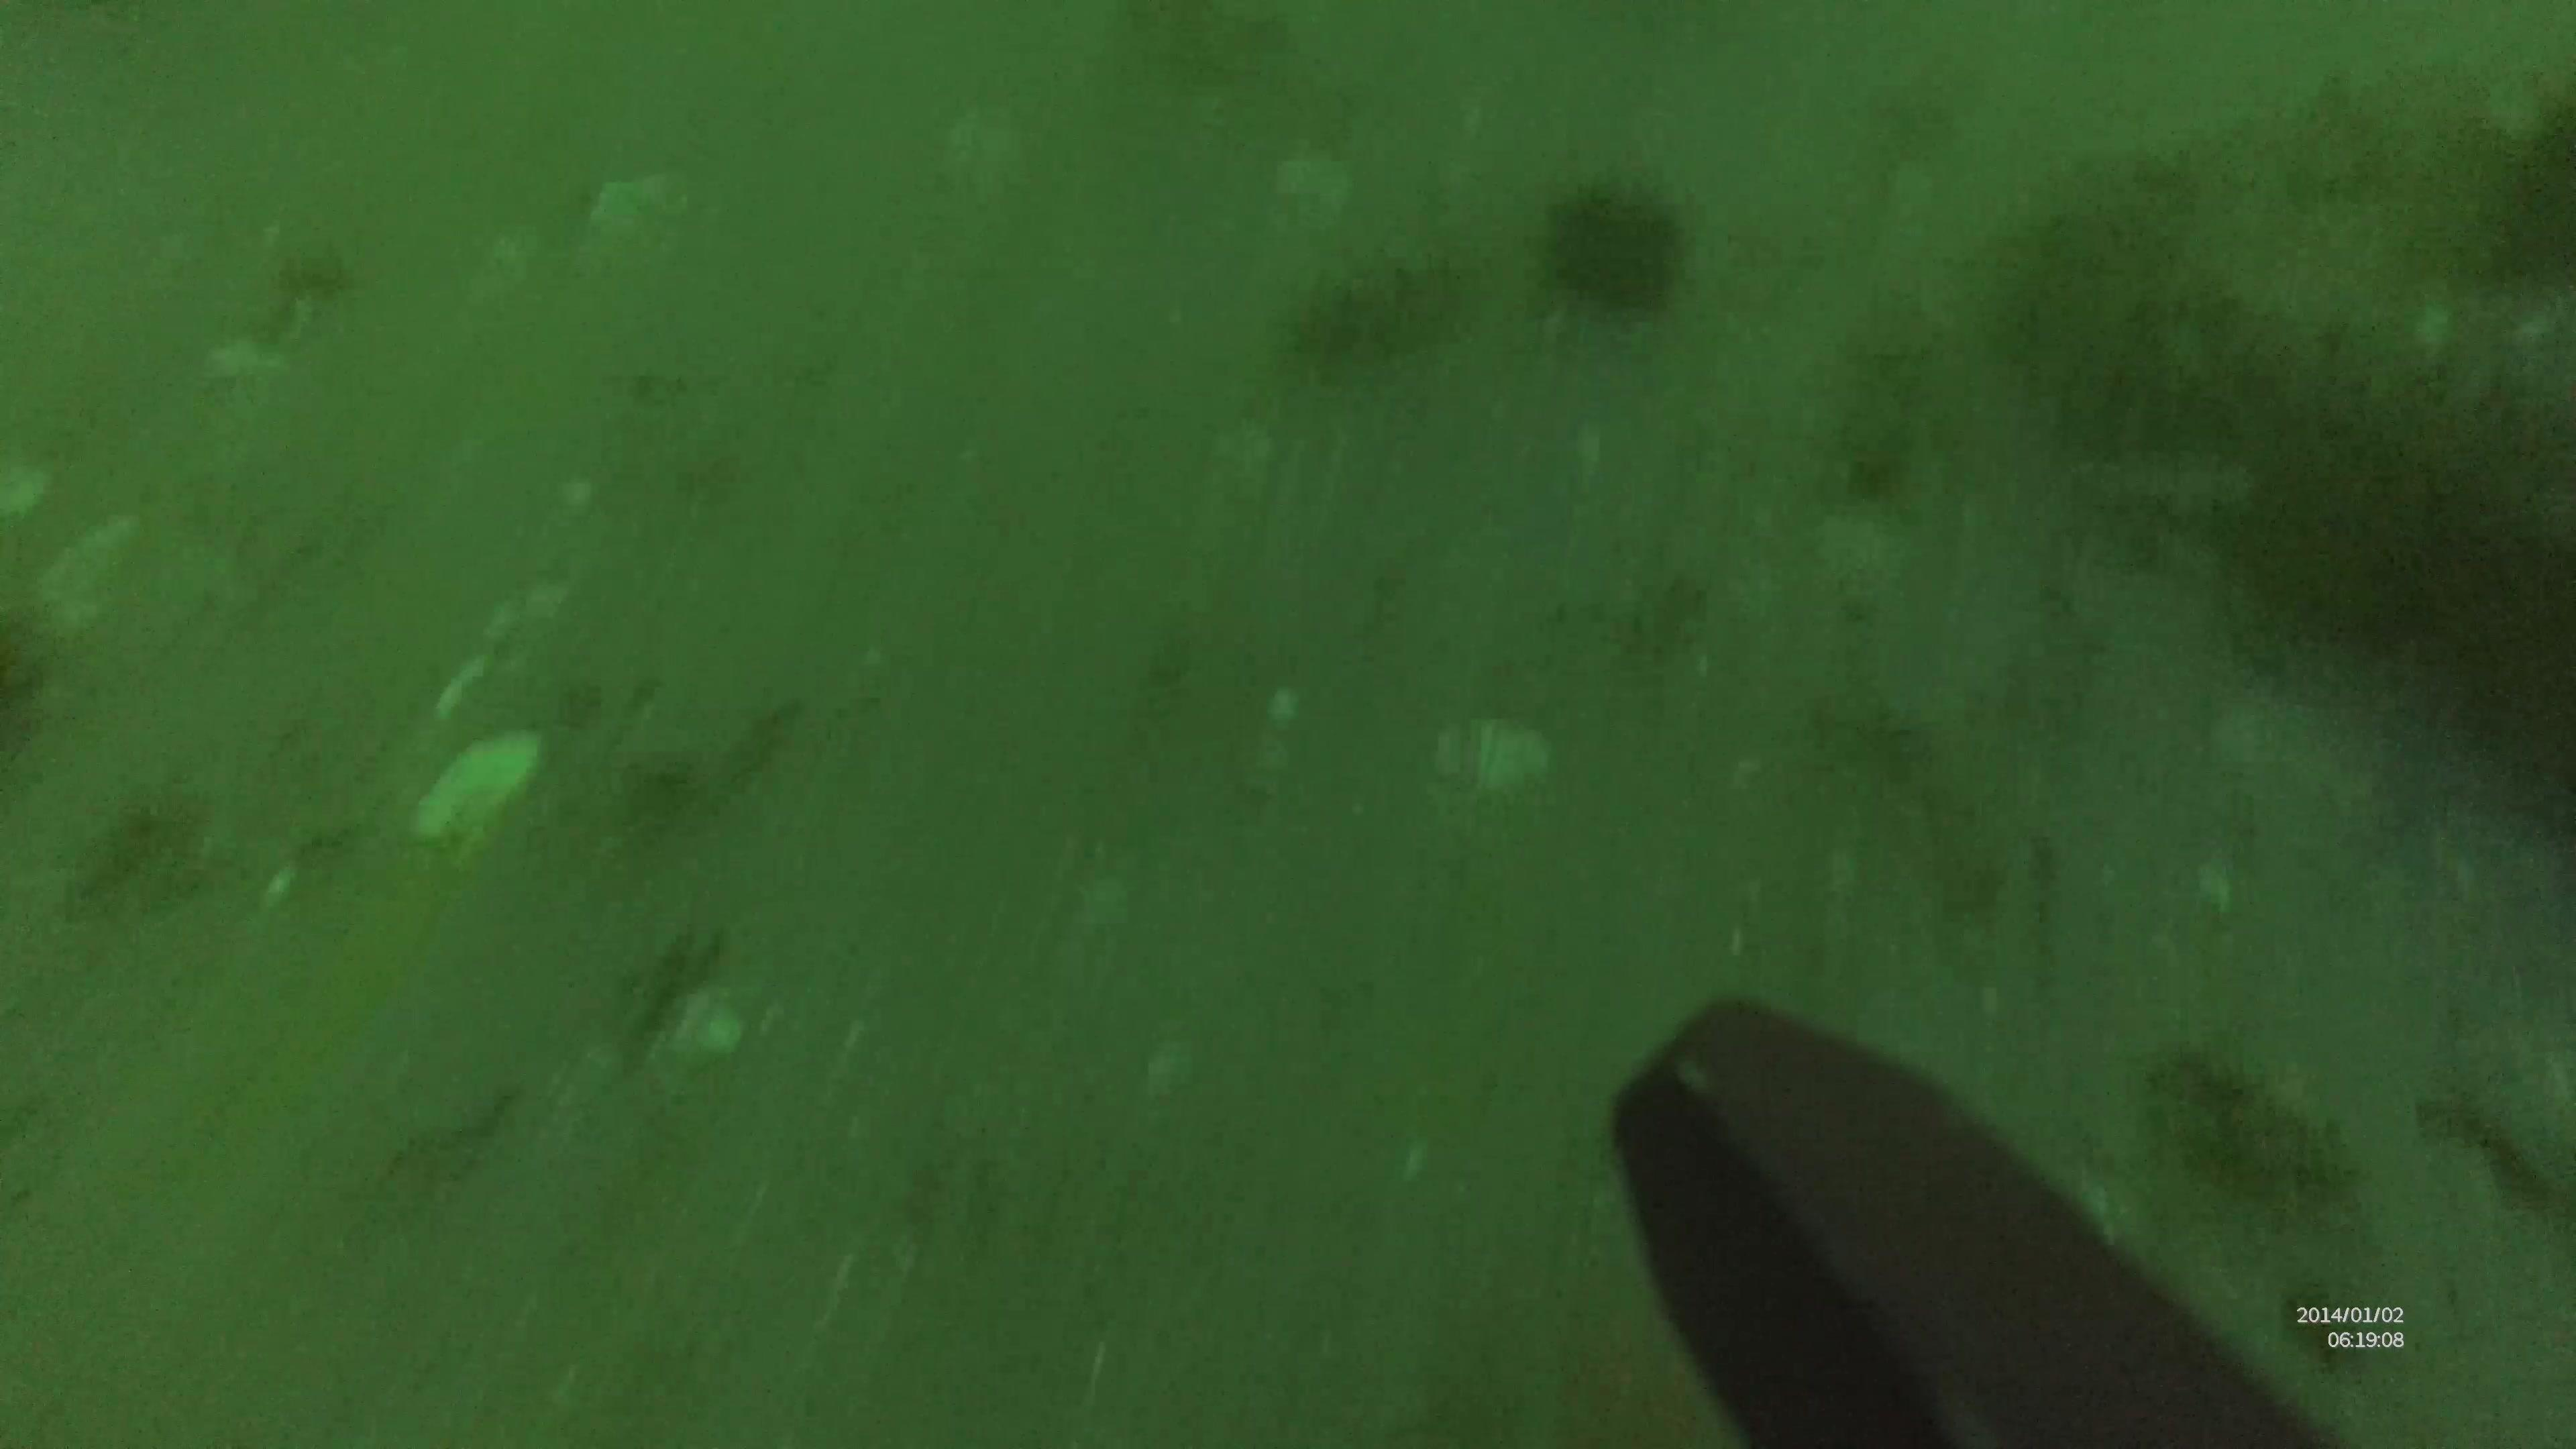echinus: (1539, 166, 1691, 333)
scallop: (1277, 154, 1355, 230)
